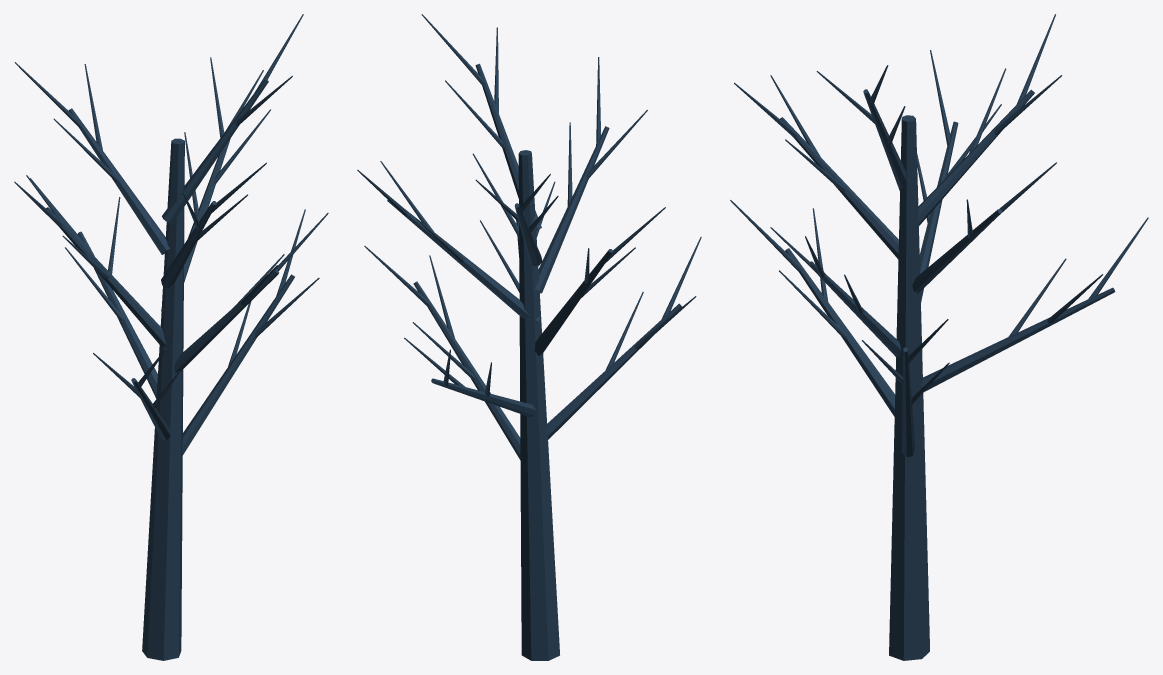
Rendered from tree_29.glb.
3 renders of one model, left to right at view 1: azimuth 30°, elevation 25°; view 2: azimuth 150°, elevation 25°; view 3: azimuth 270°, elevation 25°, orthographic. The views are drawn at different scales.
Visible parts, largest first — view 1: tree_29; view 2: tree_29; view 3: tree_29.
Part boxes in pixels (bbox=[...]): tree_29: bbox=[14, 14, 328, 660]; tree_29: bbox=[357, 14, 701, 660]; tree_29: bbox=[730, 14, 1148, 660].
Bounding box in the file's own units: 2.23 × 4.36 × 2.52.
